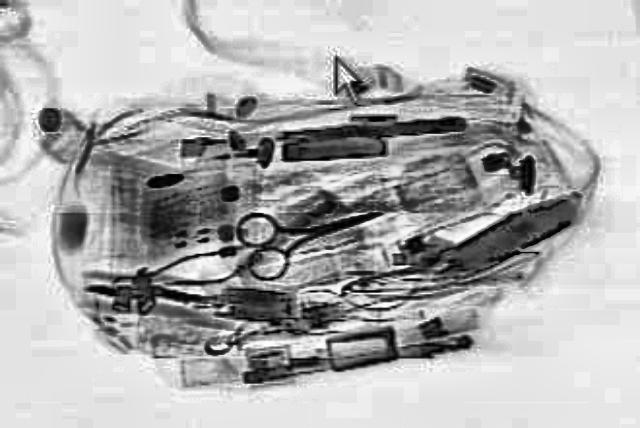Scissors: (212, 181, 402, 281)
